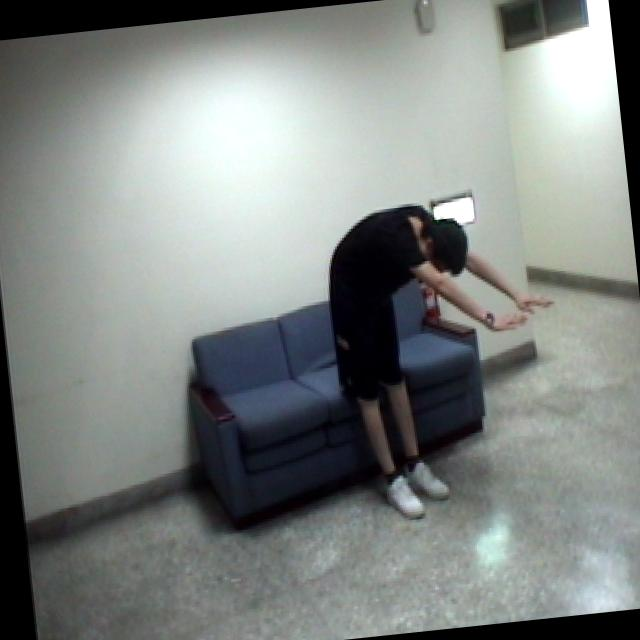bend: (313, 182, 584, 535)
